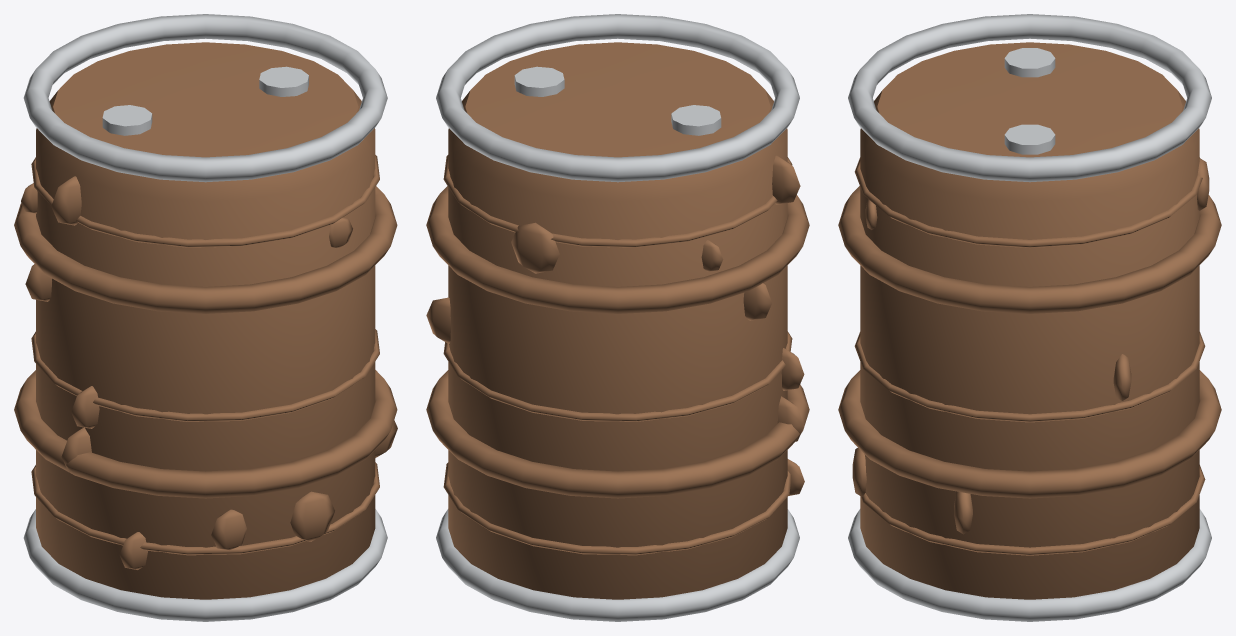
File: oil-drum.glb
3 renders of one model, left to right at view 1: azimuth 30°, elevation 25°; view 2: azimuth 150°, elevation 25°; view 3: azimuth 270°, elevation 25°, orthographic.
Parts seen in each view (by area): view 1: oil-drum; view 2: oil-drum; view 3: oil-drum.
Boxes of the visible parts, left/top/right/bottom form: oil-drum: left=14, top=14, right=397, bottom=621; oil-drum: left=426, top=14, right=809, bottom=621; oil-drum: left=838, top=14, right=1221, bottom=621.
Size of the model in its own units: 0.6831 by 0.9111 by 0.678.
